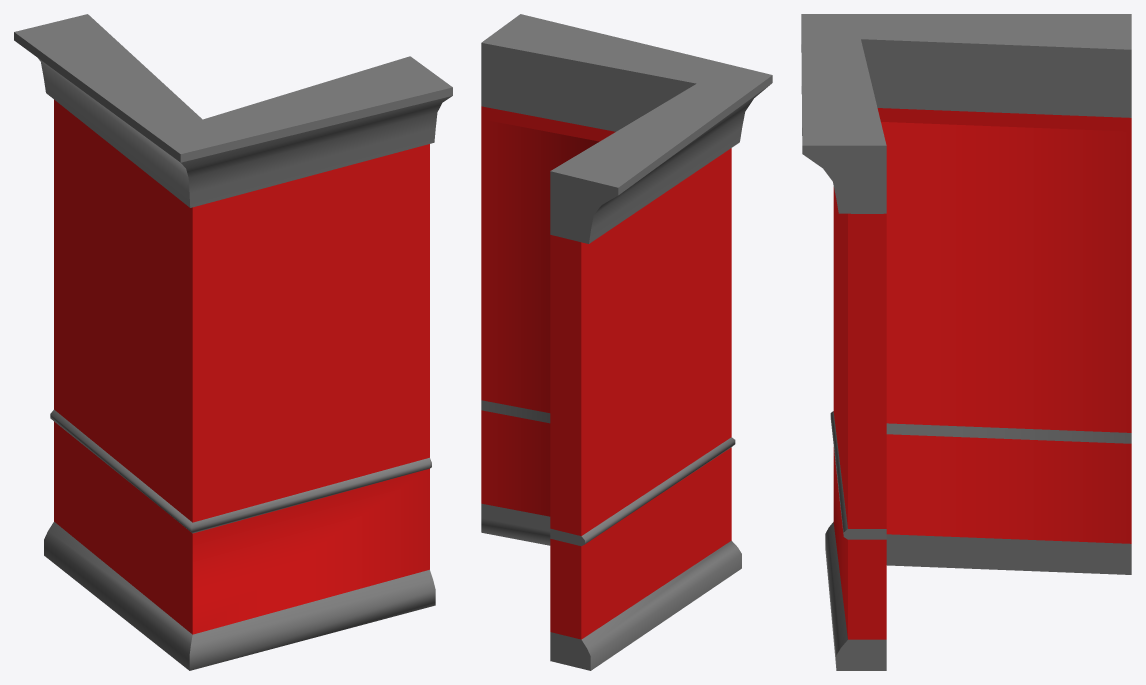
The model's file is Wall2_Base_Cornor.fbx.
3 views of the same model, side by side, from view 1: azimuth 30°, elevation 25°; view 2: azimuth 150°, elevation 25°; view 3: azimuth 270°, elevation 25° (orthographic). The views are drawn at different scales.
Visible parts, largest first — view 1: Wall003_Base_Cornor; view 2: Wall003_Base_Cornor; view 3: Wall003_Base_Cornor.
Boxes of the visible parts, box(x1,y1,x2,y2) form: Wall003_Base_Cornor: box(14, 14, 452, 670); Wall003_Base_Cornor: box(481, 14, 772, 670); Wall003_Base_Cornor: box(801, 14, 1131, 670).
Size of the model in its own units: 63.52 by 118 by 67.35.
